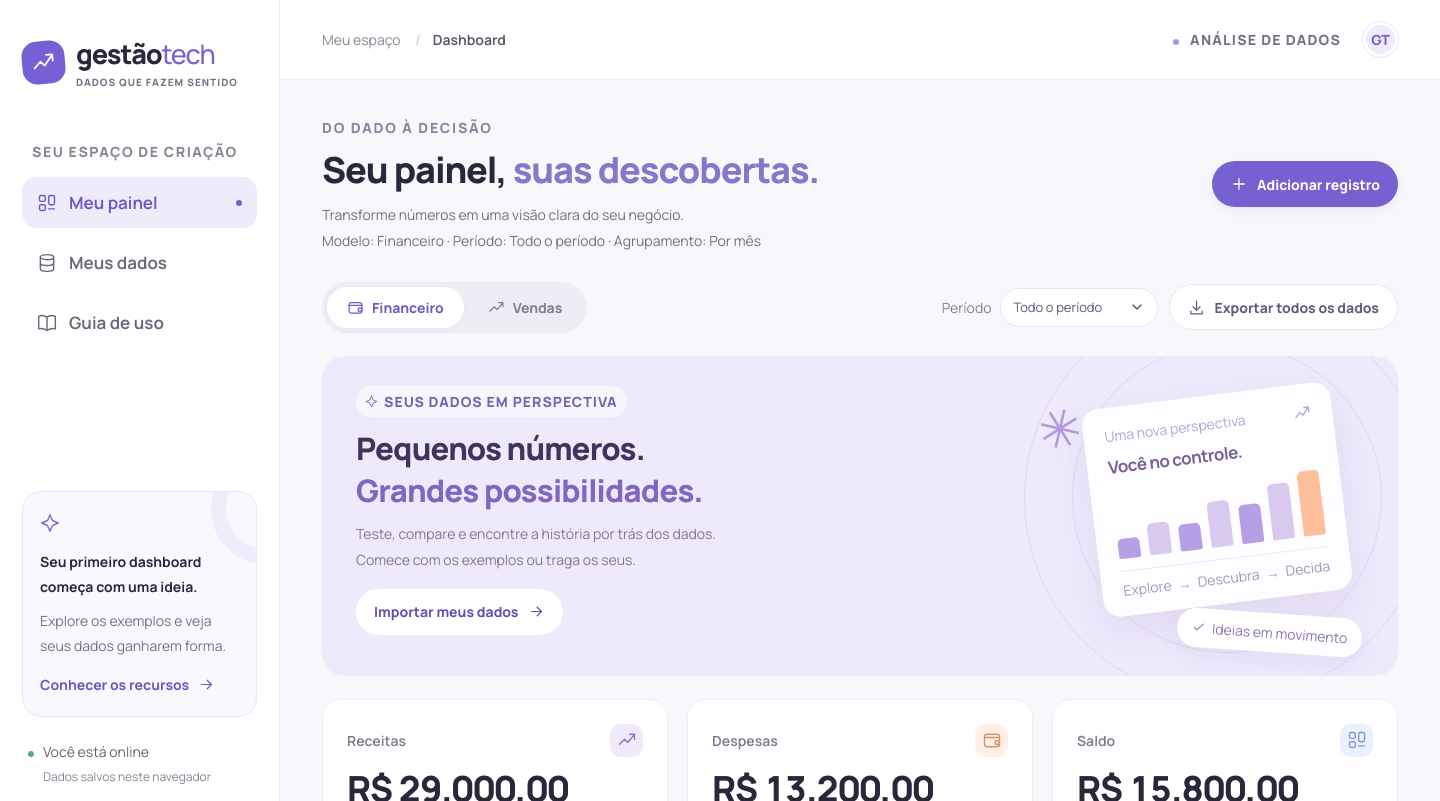
Test: dashboard and data filters › combines the category filter with the text search
This screenshot has width=1440, height=801.
Click the button "Meus dados".
click(140, 262)  # box top-left (22, 237), bottom-right (257, 288)
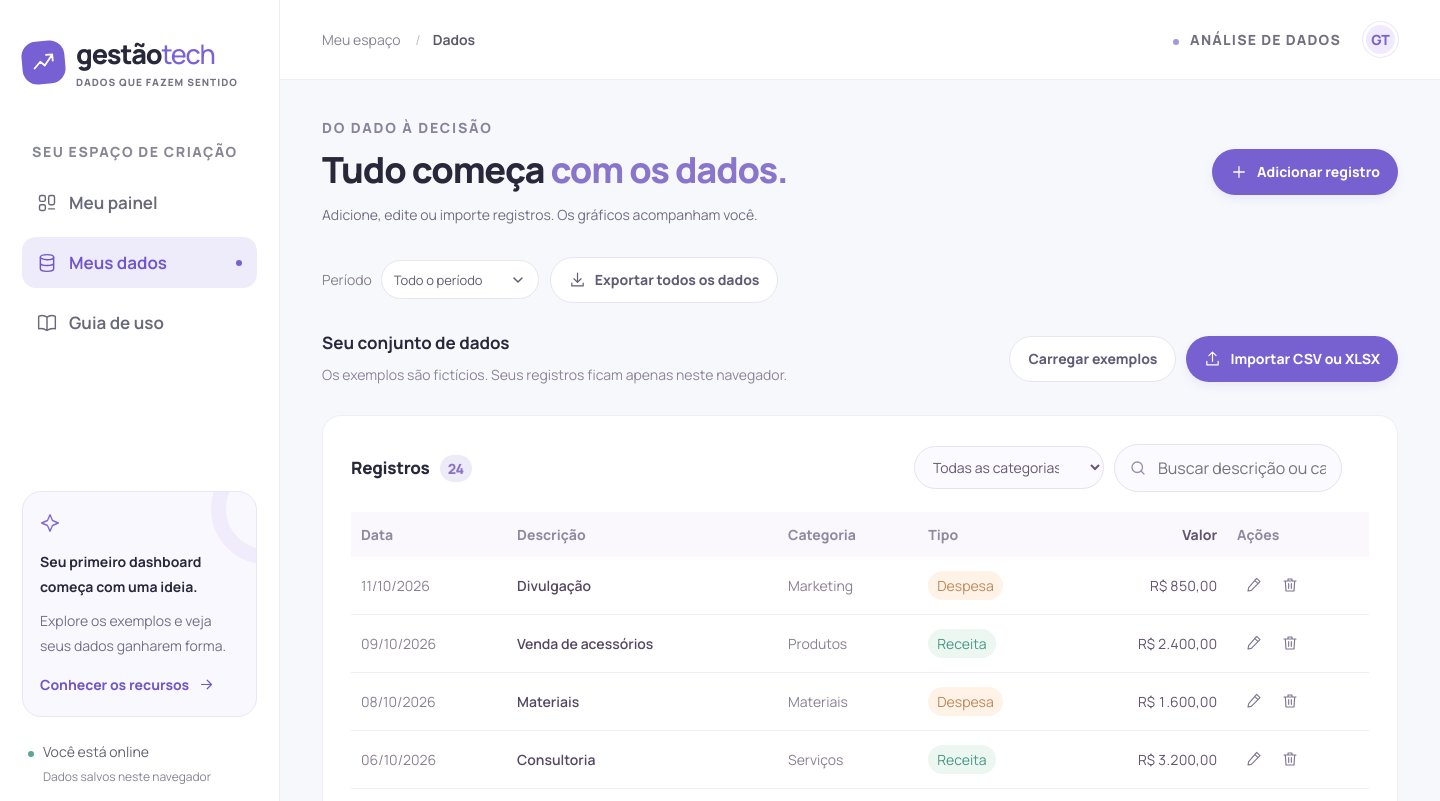
Select "Produtos" in the dropdown named "Filtrar por categoria" at point(1009, 468), box top-left (914, 446), bottom-right (1104, 489)
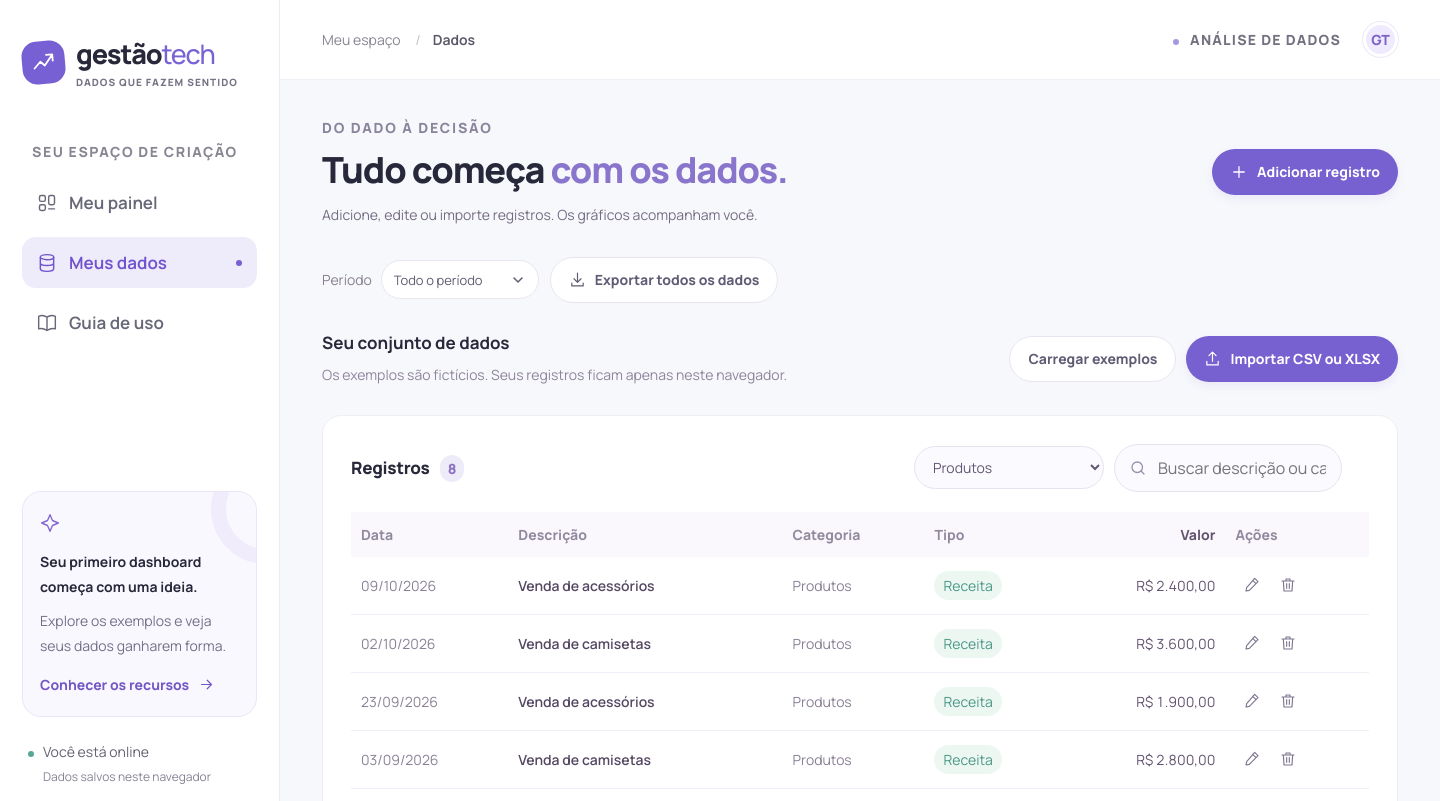
Type "acessórios" into the field with placeholder "Buscar descrição ou categoria…".
click(1228, 468); type("acessórios")  # box top-left (1114, 444), bottom-right (1342, 492)
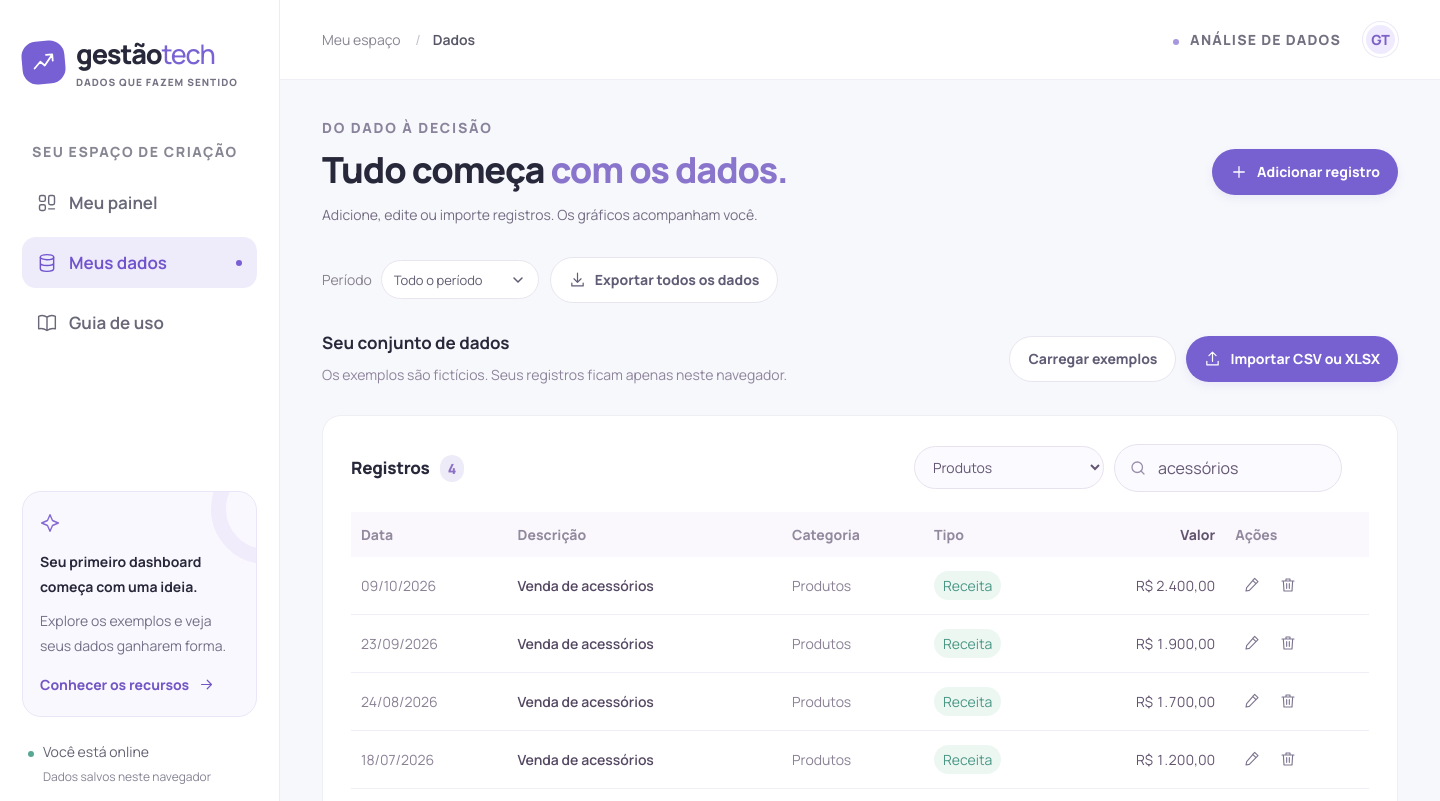
Expected: the text "4" is shown, top-left (448, 459), bottom-right (456, 478)
Expected: the text "Venda de acessórios" is shown 4 times, top-left (508, 557), bottom-right (782, 614); top-left (508, 614), bottom-right (782, 672); top-left (508, 672), bottom-right (782, 730); top-left (508, 730), bottom-right (782, 788)
Expected: the text "Venda de camisetas" is gone
